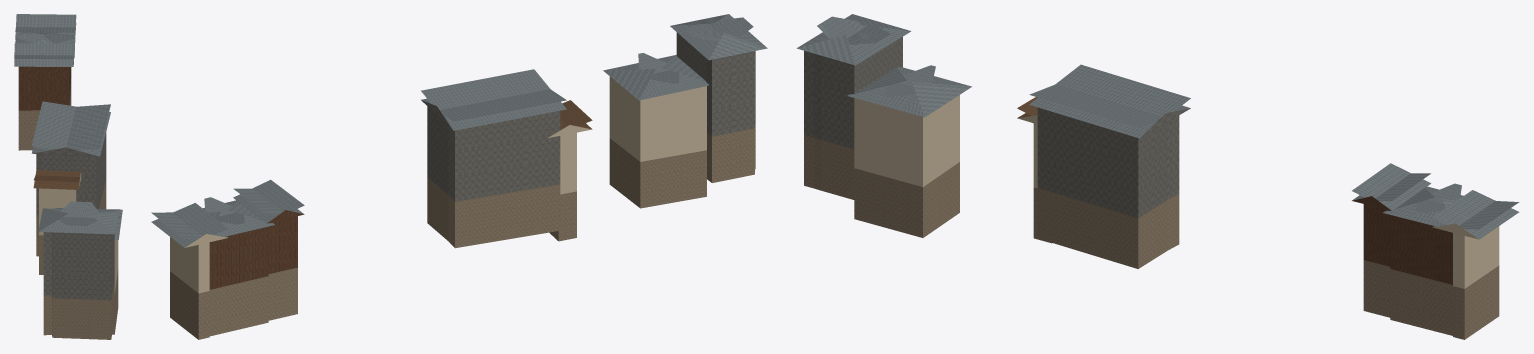
The model's file is bld_c13_36_413.gltf.
3 views of the same model, side by side, from view 1: azimuth 30°, elevation 25°; view 2: azimuth 150°, elevation 25°; view 3: azimuth 270°, elevation 25° (orthographic). The views are drawn at different scales.
Visible parts, largest first — view 1: bld_c13_36_413; view 2: bld_c13_36_413; view 3: bld_c13_36_413.
Part boxes in pixels (x1,y1,x2,y2): bld_c13_36_413: (14,14,122,339); bld_c13_36_413: (151,14,767,339); bld_c13_36_413: (796,14,1519,339).
Size of the model in its own units: 37.93 by 16.7 by 65.6.
Materials: 9 (9 with a texture image).
